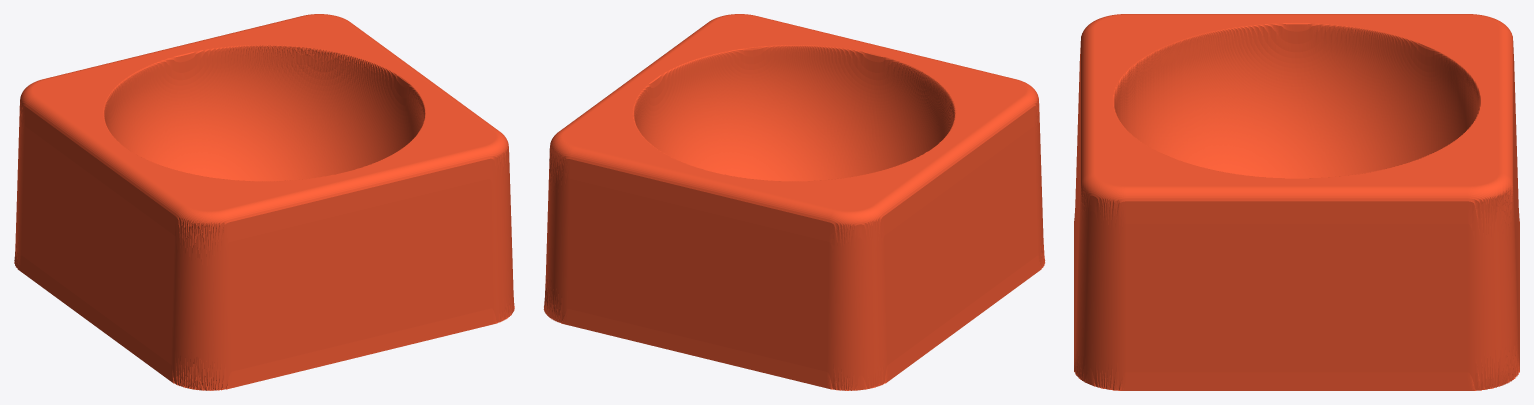
The model's file is mold.glb.
The picture shows the model from 3 angles, left to right: view 1: azimuth 30°, elevation 25°; view 2: azimuth 150°, elevation 25°; view 3: azimuth 270°, elevation 25°; orthographic projection. The views are drawn at different scales.
Parts seen in each view (by area): view 1: geometry_0; view 2: geometry_0; view 3: geometry_0.
Part boxes in pixels (x1,y1,x2,y2): geometry_0: [14, 14, 514, 390]; geometry_0: [543, 14, 1045, 390]; geometry_0: [1074, 14, 1519, 390].
Bounding box in the file's own units: 0.0778 × 0.0377 × 0.0778.
